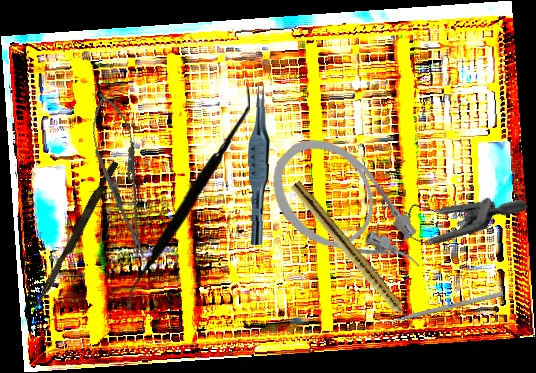Cannula: (252, 119, 443, 310)
Handpiece: (287, 179, 418, 331)
Needle Holder: (82, 89, 159, 261)
Pusher: (33, 159, 119, 312), (374, 291, 504, 328)
Spatula Surgical: (123, 87, 254, 311)
Speculum: (359, 130, 529, 293)
Tissue Forceps: (247, 83, 272, 245)
